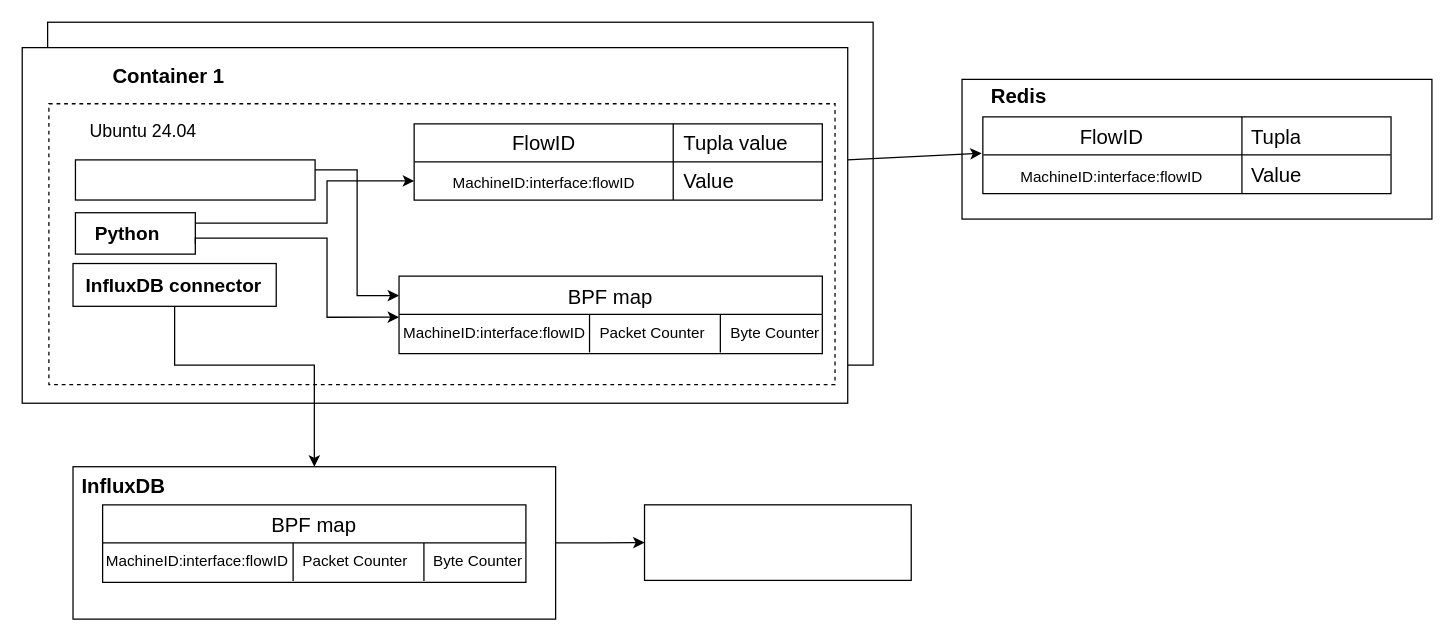
The diagram is 1454 pixels wide and 641 high, and some of its shapes have lost their labels. The centre of each missing label's shape, as x and y in pixels:
"Chronograph" belongs at point (777, 542).
"EBP program - TC filter" belongs at point (194, 179).
